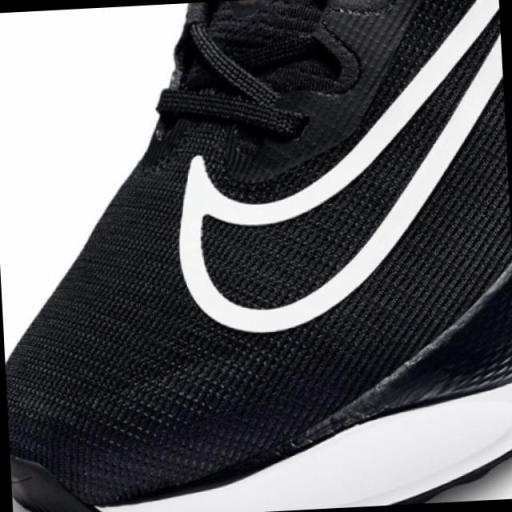Nike: (166, 0, 512, 347)
